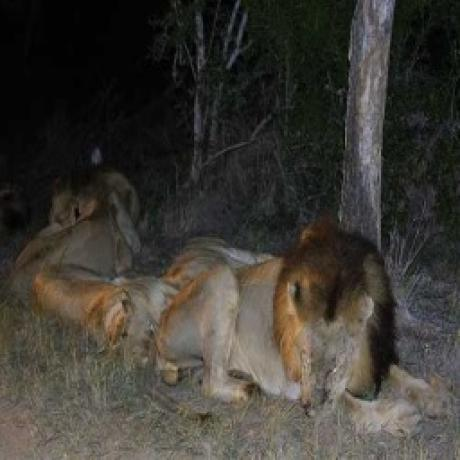Lion: (153, 221, 448, 440)
